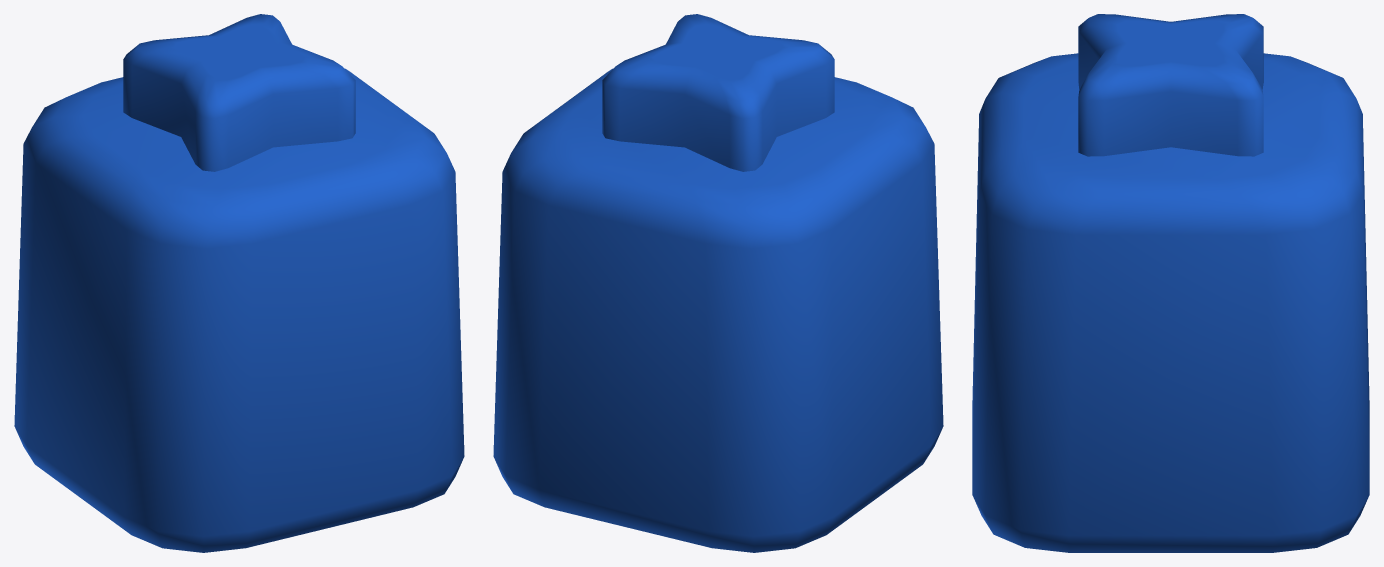
File: block_star4.fbx
The picture shows the model from 3 angles, left to right: view 1: azimuth 30°, elevation 25°; view 2: azimuth 150°, elevation 25°; view 3: azimuth 270°, elevation 25°; orthographic projection. The views are drawn at different scales.
Parts seen in each view (by area): view 1: block_star4; view 2: block_star4; view 3: block_star4.
Part boxes in pixels (<box>): block_star4: <box>14,14,464,552</box>; block_star4: <box>493,14,943,552</box>; block_star4: <box>972,14,1369,552</box>.
Size of the model in its own units: 98.38 by 98.38 by 120.
